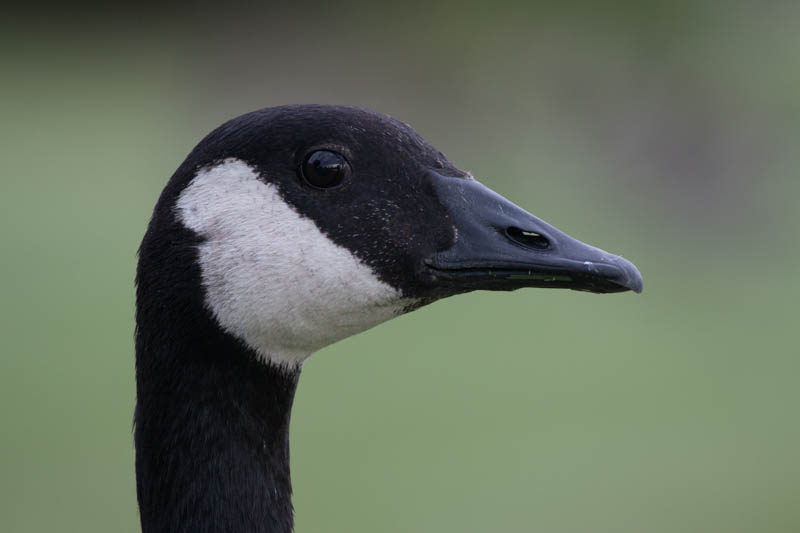goose-head: (135, 105, 644, 380)
